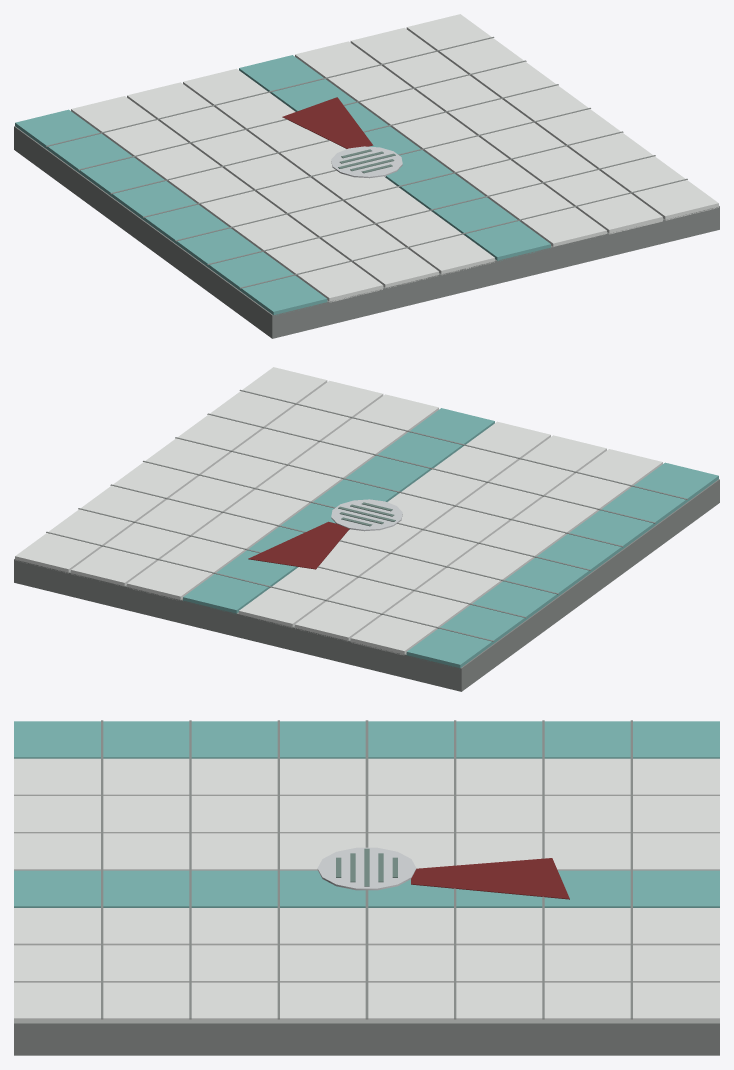
The model's file is floor_hs_drain.glb.
3 renders of one model, top to bottom at view 1: azimuth 30°, elevation 25°; view 2: azimuth 150°, elevation 25°; view 3: azimuth 270°, elevation 25°, orthographic. The views are drawn at different scales.
Parts seen in each view (by area): view 1: floor_hs_drain; view 2: floor_hs_drain; view 3: floor_hs_drain.
Boxes of the visible parts, x1,y1,x2,y2 form: floor_hs_drain: [14, 14, 719, 338]; floor_hs_drain: [14, 367, 719, 691]; floor_hs_drain: [14, 720, 719, 1055].
Bounding box in the file's own units: 4 × 0.245 × 4.
